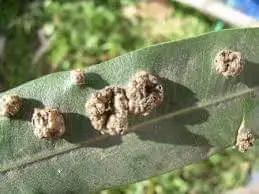Tuberculosis: (3, 62, 165, 153), (209, 40, 250, 86), (232, 122, 258, 158)
